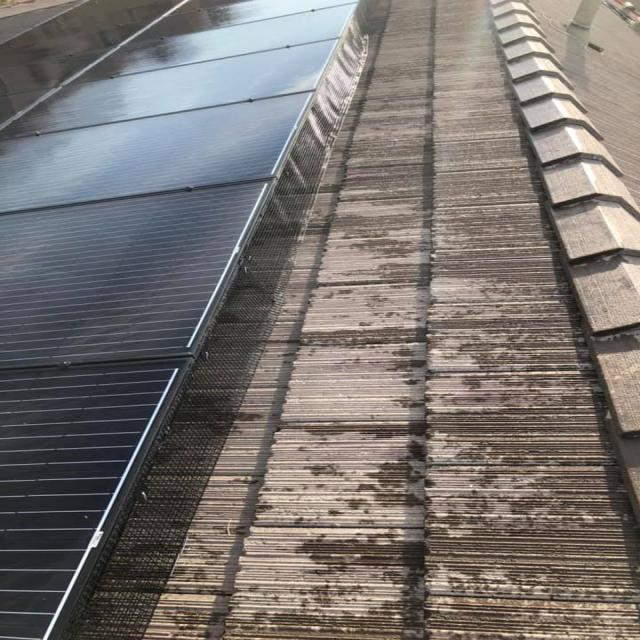clean-solar-panel: (2, 0, 363, 638)
